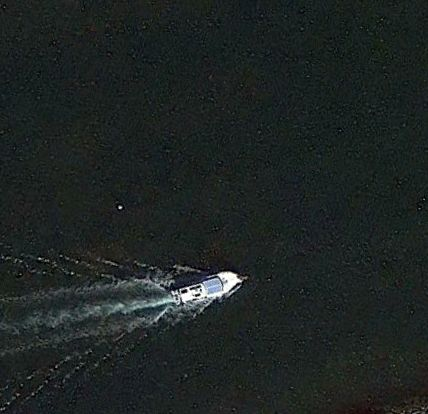boat: (170, 269, 248, 308)
